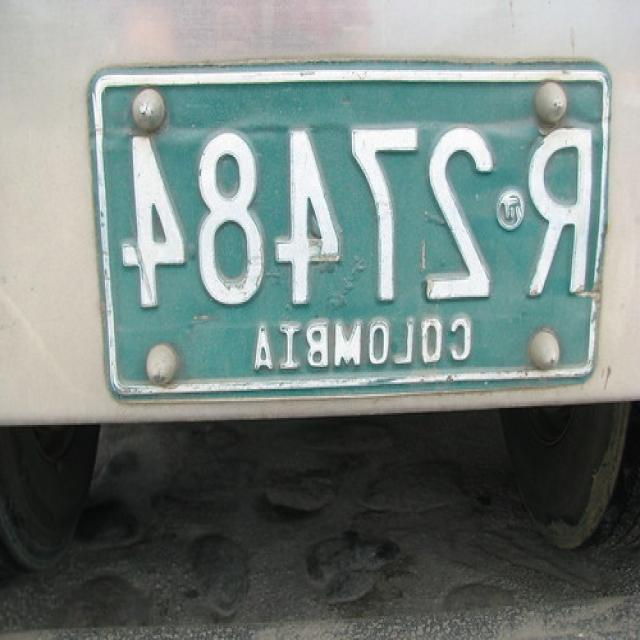placas: (102, 112, 603, 331)
